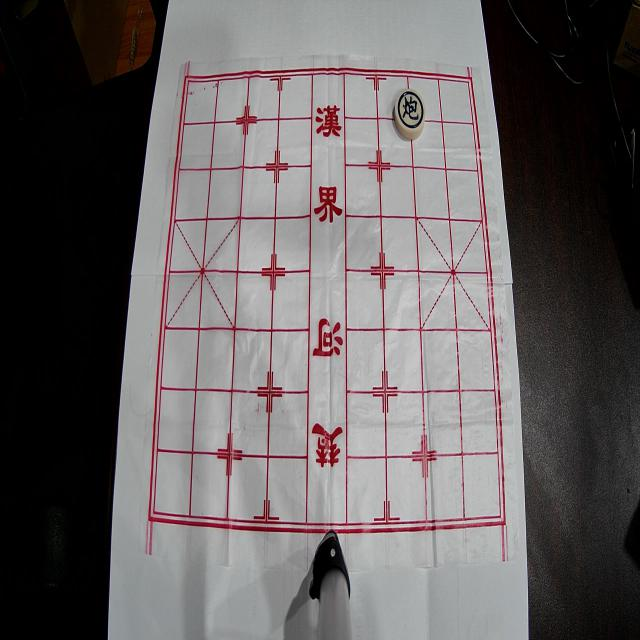black-cannon: (394, 89, 426, 139)
